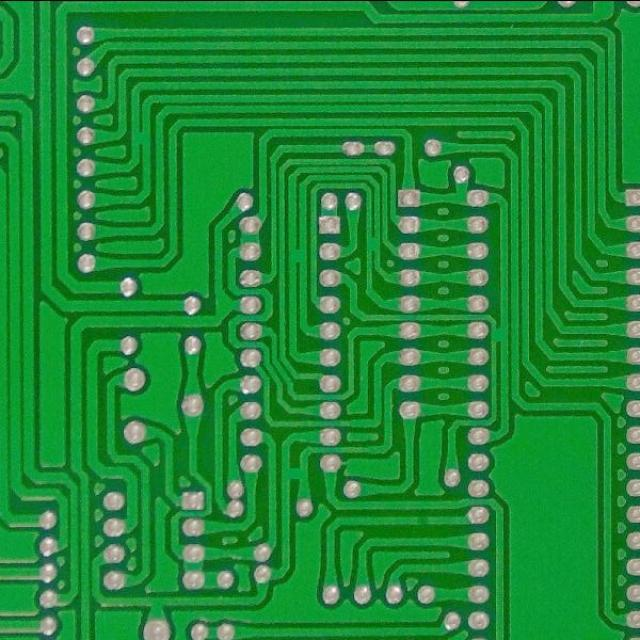Short_Circuit: (277, 458, 314, 489), (127, 126, 154, 152), (287, 242, 310, 271), (488, 322, 511, 350), (363, 230, 383, 256)
